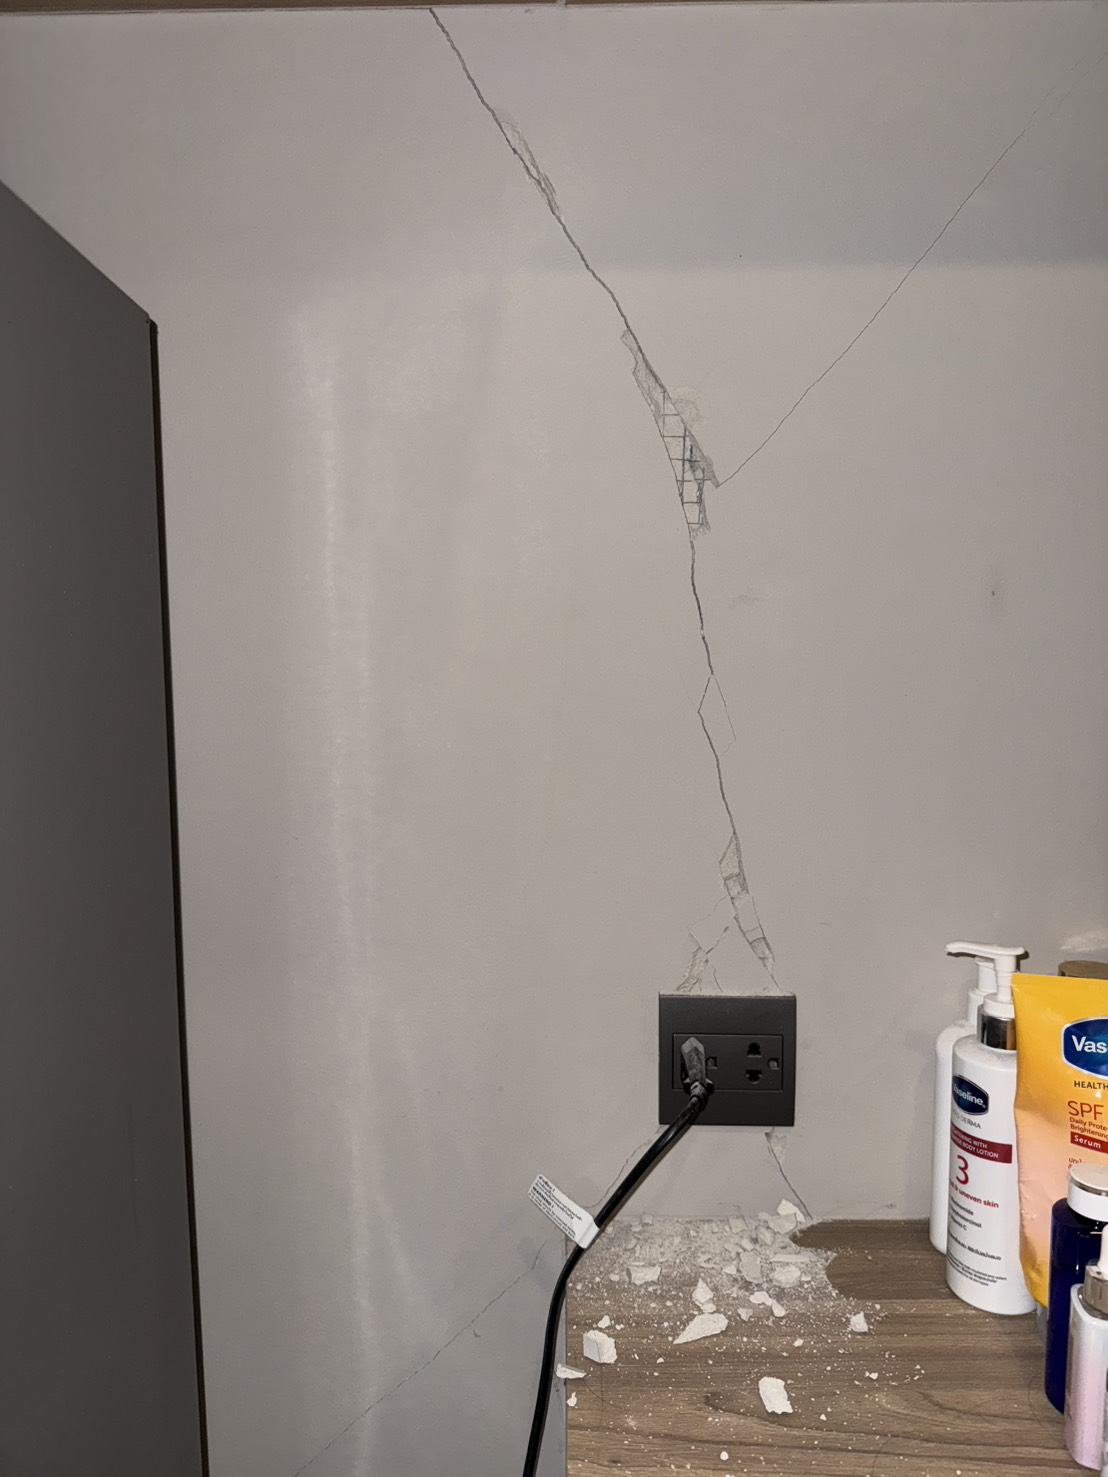Medium: (540, 186, 872, 963)
